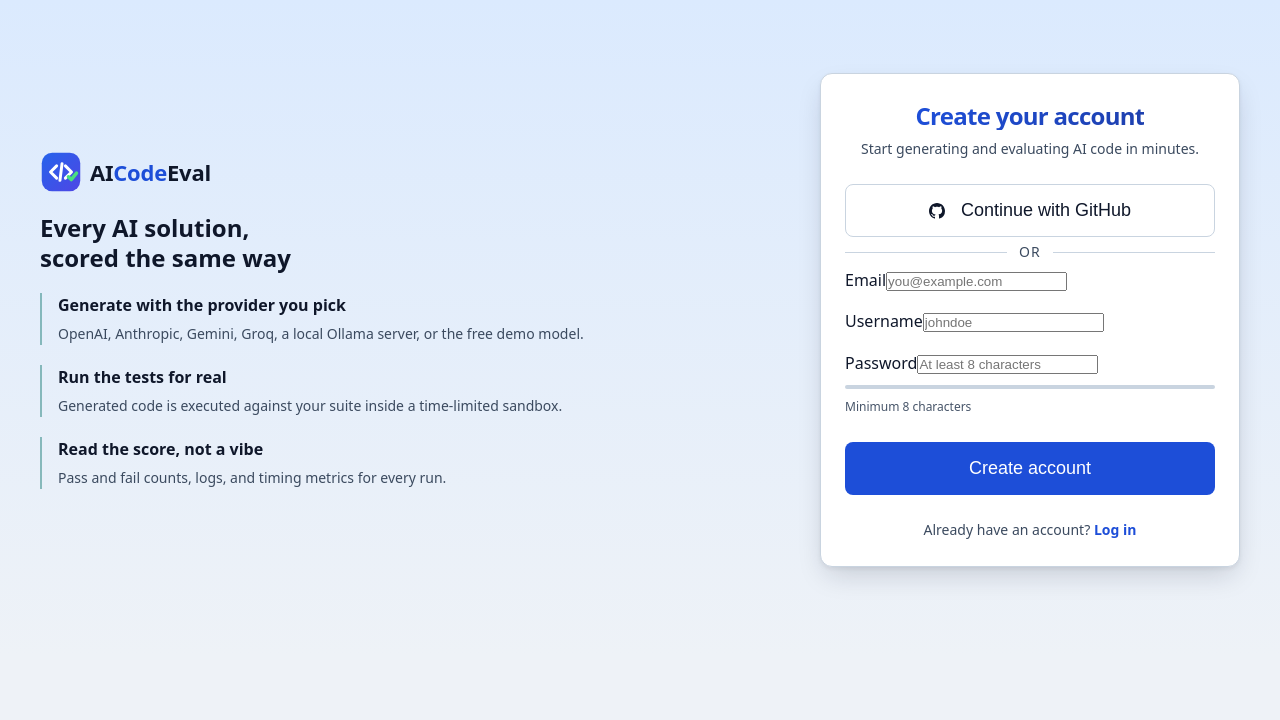
Test: Register › shows an error message when registration fails
The width and height of the screenshot is (1280, 720).
Type "alice@example.com" into the field labelled "Email" at (977, 281), box [886,272,1067,291]
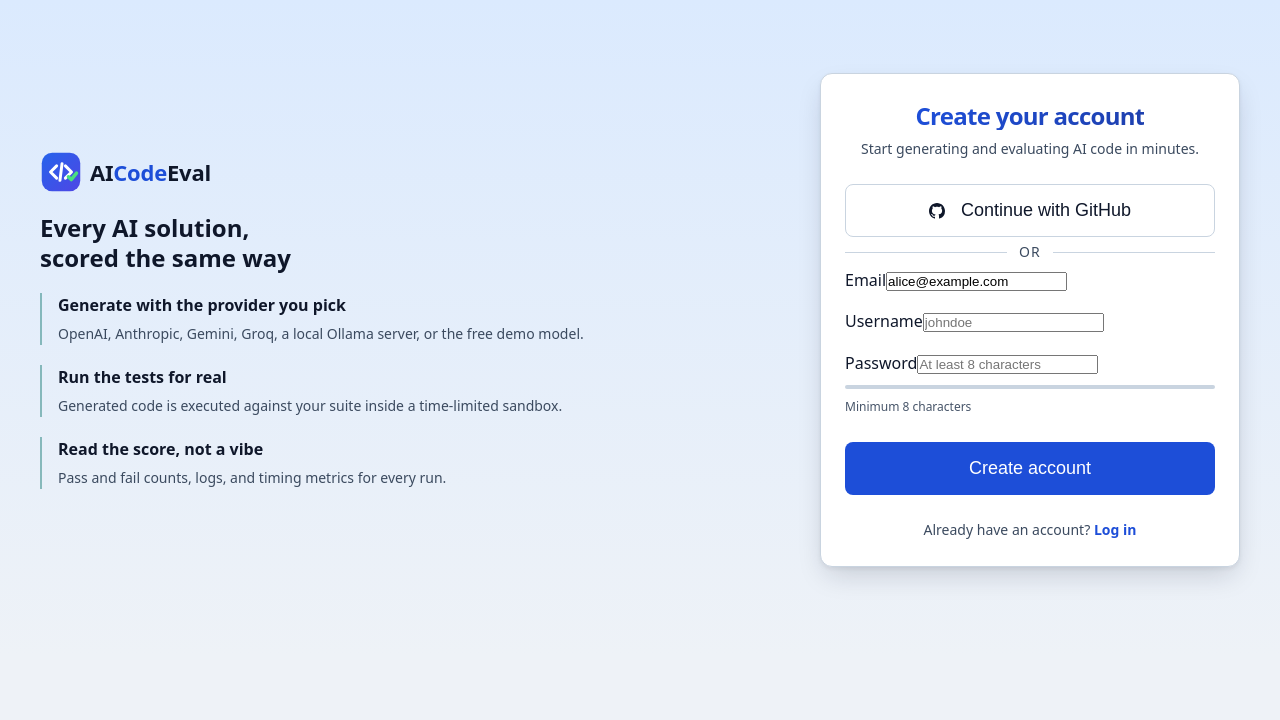
Type "alice" into the field labelled "Username" at (1013, 323), box [923,313,1104,332]
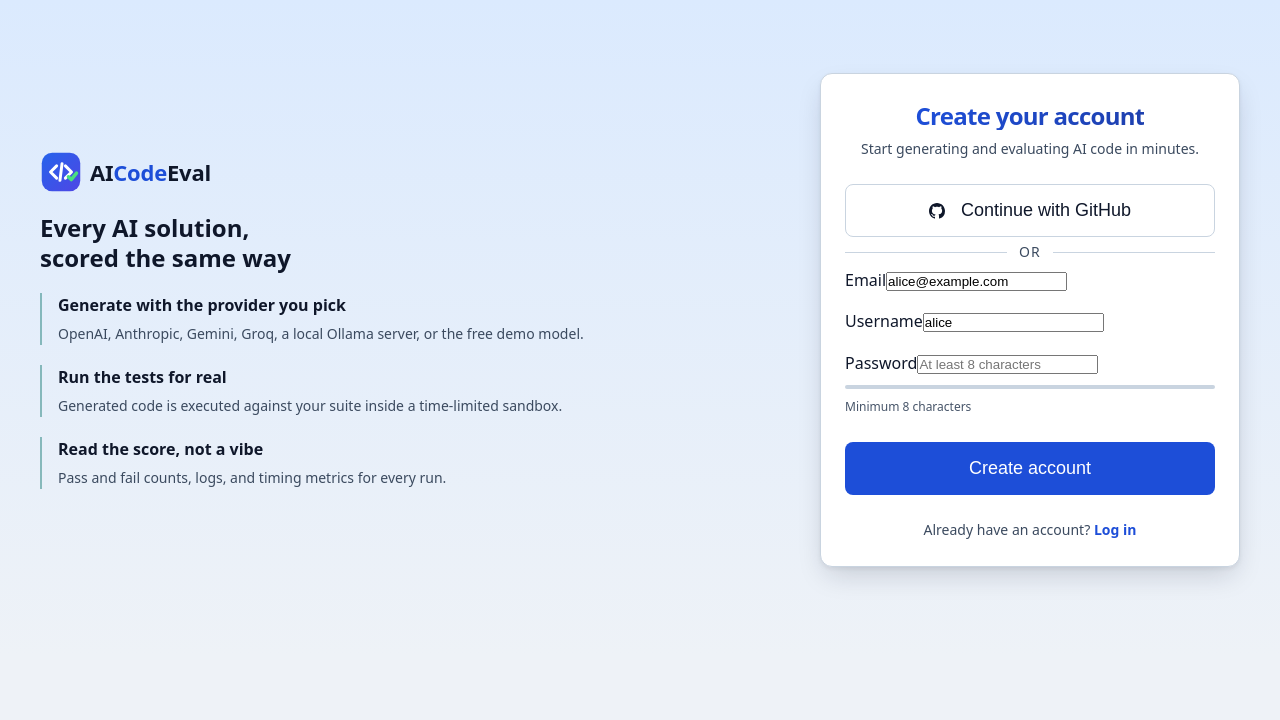
Type "password123" into the password field labelled "Password" at (1008, 364), box [917,355,1098,374]
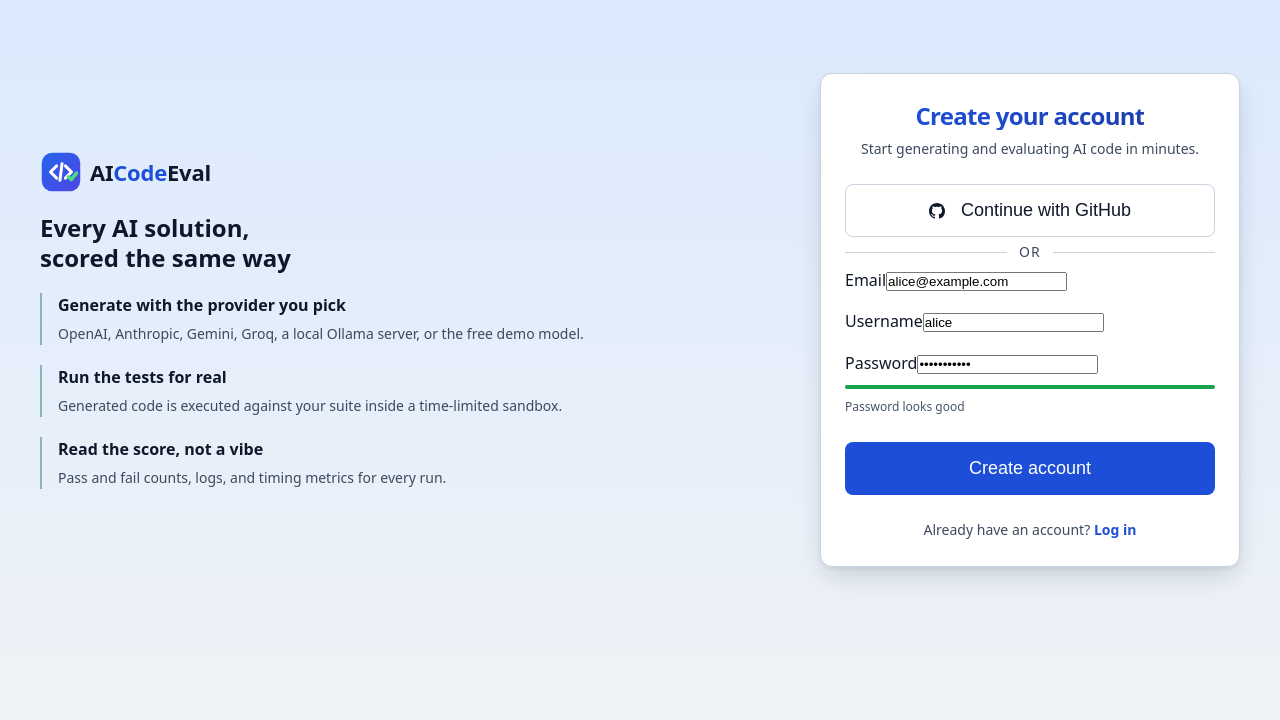
Click the button "Create account" at (1030, 469), box [845,442,1215,495]
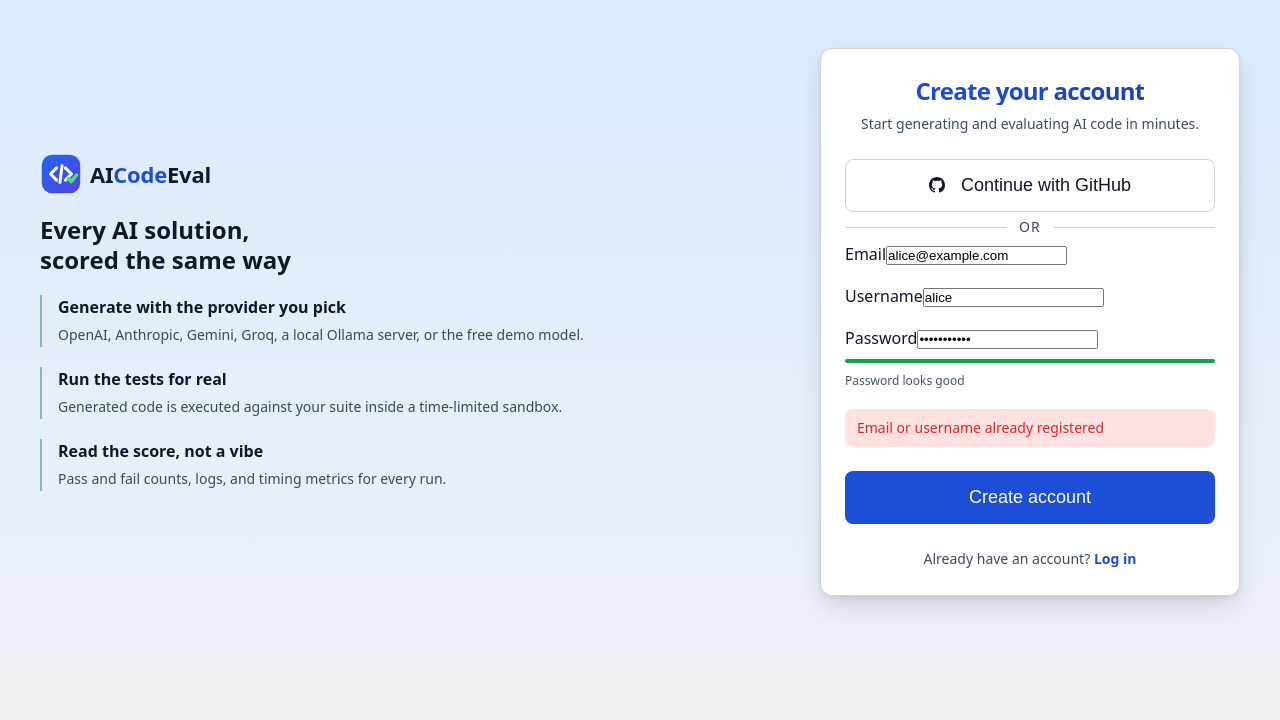
Expected: the message reads "Email or username already registered", [857,418,1104,437]
